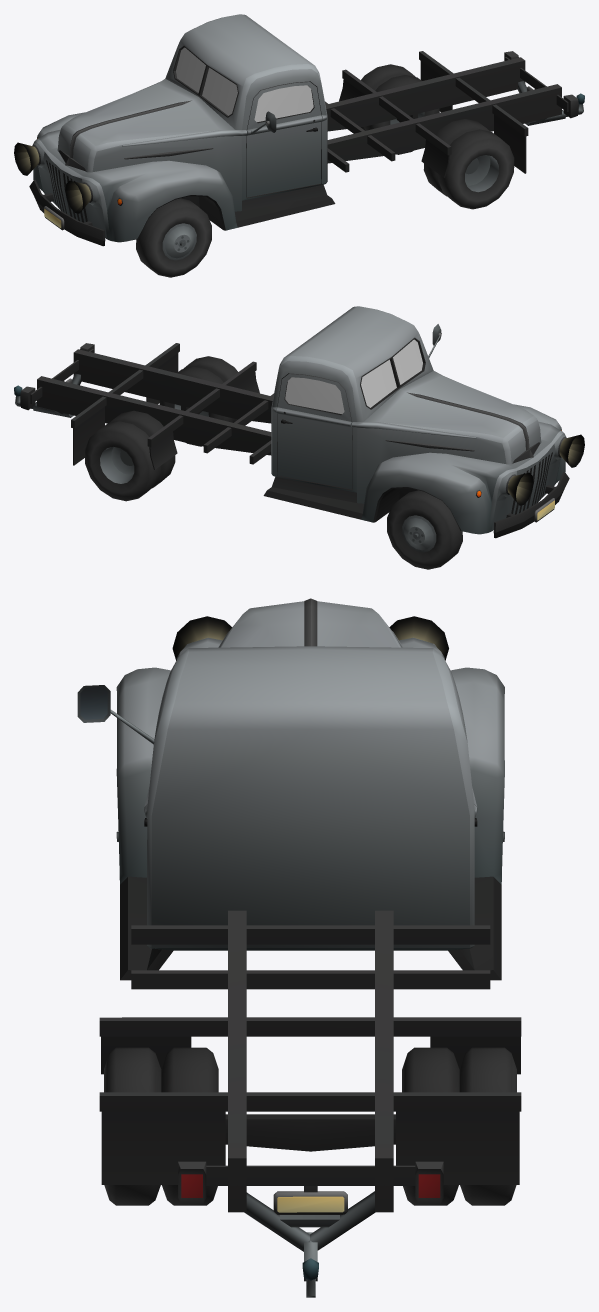
File: TFP_Utility_Pick_Up_02C.fbx
3 views of the same model, one above another, from view 1: azimuth 30°, elevation 25°; view 2: azimuth 150°, elevation 25°; view 3: azimuth 270°, elevation 25° (orthographic). The views are drawn at different scales.
Parts seen in each view (by area): view 1: TFP_Utility_Pick_Up_02C_Body_LOD0, TFP_Utility_Pick_Up_02C_Door_L_LOD0, TFP_Utility_Pick_Up_02C_Wheel_R.L_LOD0, TFP_Utility_Pick_Up_02C_Wheel_F.L_LOD0, TFP_Utility_Pick_Up_02C_Wheel_R.R_LOD0, TFP_Utility_Pick_Up_02C_Lights_LOD0; view 2: TFP_Utility_Pick_Up_02C_Body_LOD0, TFP_Utility_Pick_Up_02C_Door_R_LOD0, TFP_Utility_Pick_Up_02C_Wheel_R.R_LOD0, TFP_Utility_Pick_Up_02C_Wheel_F.R_LOD0, TFP_Utility_Pick_Up_02C_Wheel_R.L_LOD0, TFP_Utility_Pick_Up_02C_Lights_LOD0; view 3: TFP_Utility_Pick_Up_02C_Body_LOD0, TFP_Utility_Pick_Up_02C_Wheel_R.R_LOD0, TFP_Utility_Pick_Up_02C_Wheel_R.L_LOD0, TFP_Utility_Pick_Up_02C_Lights_LOD0, TFP_Utility_Pick_Up_02C_Door_L_LOD0.
Part boxes in pixels (bbox=[...]): TFP_Utility_Pick_Up_02C_Body_LOD0: bbox=[29, 14, 584, 246]; TFP_Utility_Pick_Up_02C_Door_L_LOD0: bbox=[246, 81, 322, 197]; TFP_Utility_Pick_Up_02C_Wheel_R.L_LOD0: bbox=[423, 119, 514, 209]; TFP_Utility_Pick_Up_02C_Wheel_F.L_LOD0: bbox=[136, 198, 211, 277]; TFP_Utility_Pick_Up_02C_Wheel_R.R_LOD0: bbox=[361, 64, 439, 154]; TFP_Utility_Pick_Up_02C_Lights_LOD0: bbox=[14, 142, 91, 213]; TFP_Utility_Pick_Up_02C_Body_LOD0: bbox=[14, 306, 569, 538]; TFP_Utility_Pick_Up_02C_Door_R_LOD0: bbox=[276, 373, 352, 489]; TFP_Utility_Pick_Up_02C_Wheel_R.R_LOD0: bbox=[84, 410, 175, 501]; TFP_Utility_Pick_Up_02C_Wheel_F.R_LOD0: bbox=[387, 490, 462, 569]; TFP_Utility_Pick_Up_02C_Wheel_R.L_LOD0: bbox=[159, 356, 237, 446]; TFP_Utility_Pick_Up_02C_Lights_LOD0: bbox=[507, 434, 584, 505]; TFP_Utility_Pick_Up_02C_Body_LOD0: bbox=[99, 598, 521, 1297]; TFP_Utility_Pick_Up_02C_Wheel_R.R_LOD0: bbox=[402, 1047, 516, 1205]; TFP_Utility_Pick_Up_02C_Wheel_R.L_LOD0: bbox=[104, 1047, 218, 1205]; TFP_Utility_Pick_Up_02C_Lights_LOD0: bbox=[172, 616, 448, 660]; TFP_Utility_Pick_Up_02C_Door_L_LOD0: bbox=[77, 685, 154, 826].
Size of what is drawn, in the model's own units: 7.24 by 2.24 by 2.59.
